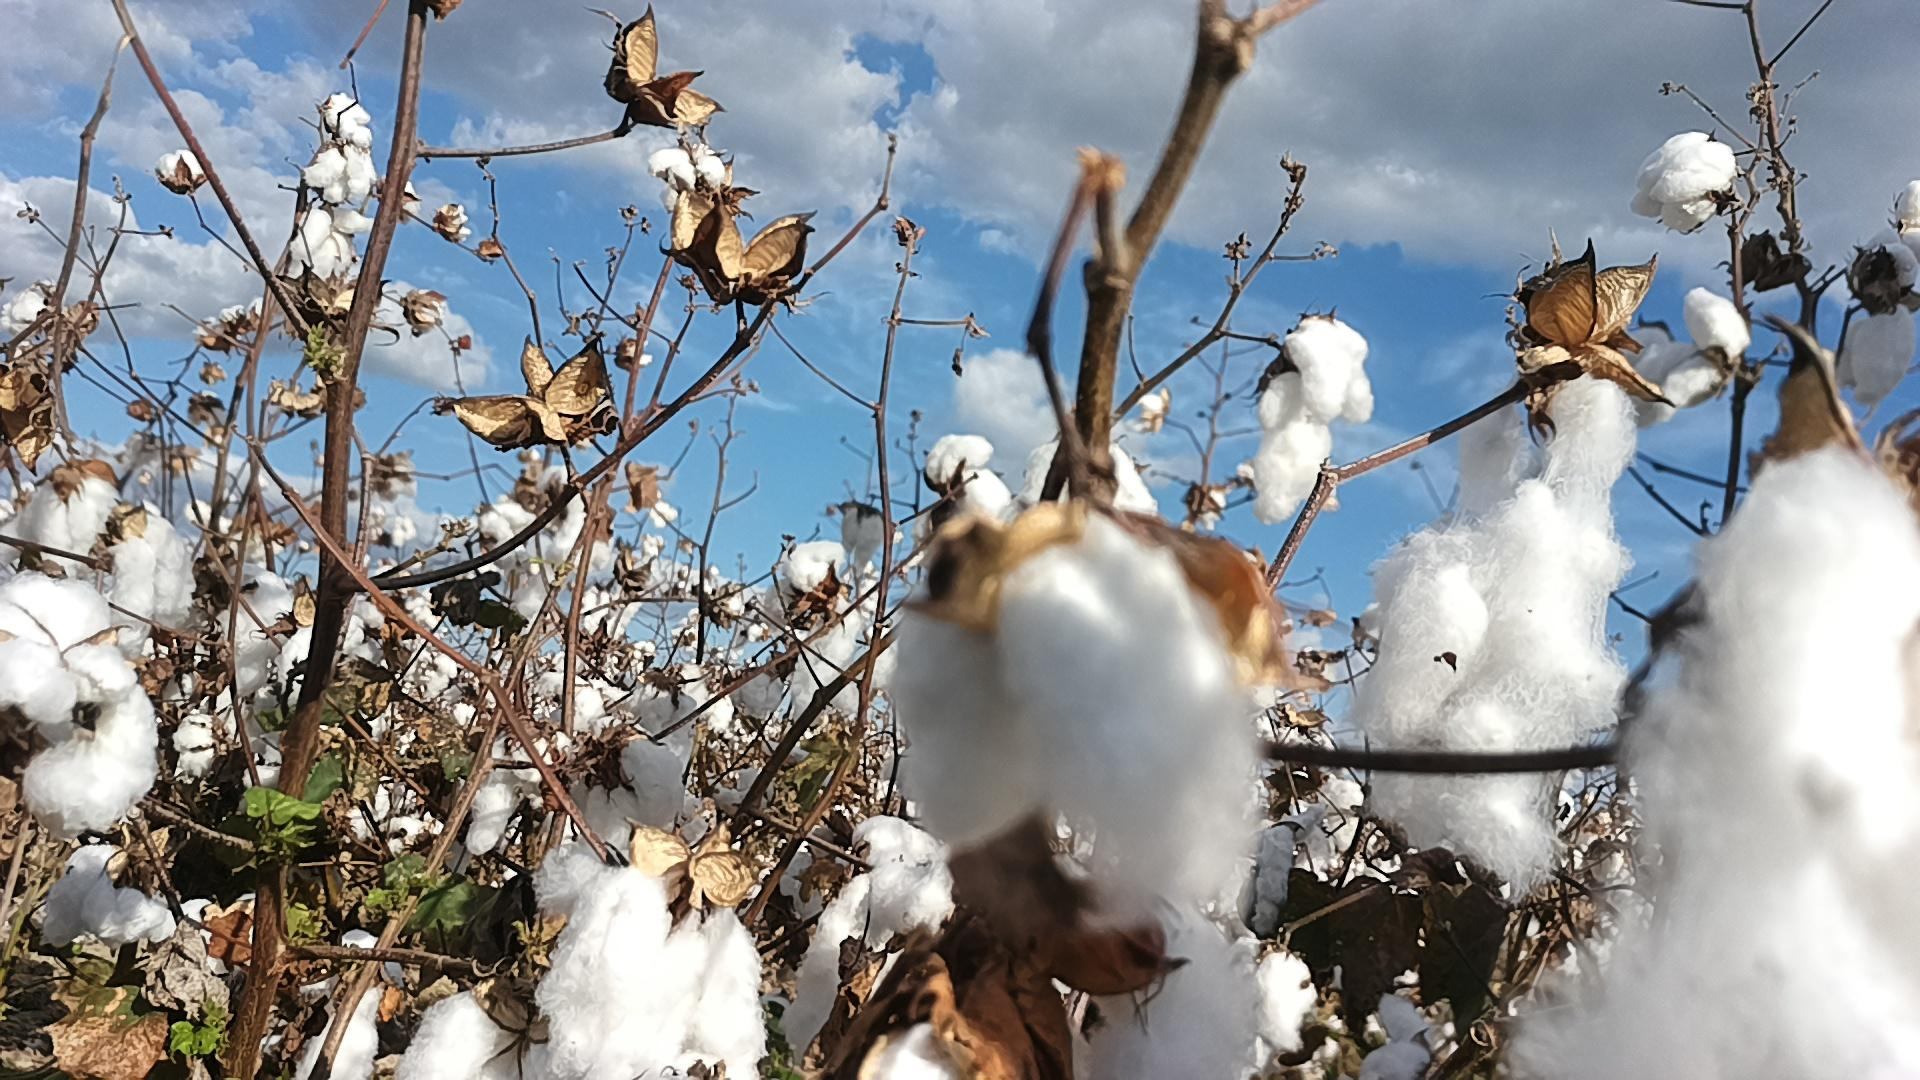cotton_ready: (1510, 446, 1920, 1080), (890, 512, 1266, 915), (1354, 476, 1633, 878), (539, 868, 767, 1080), (779, 818, 948, 1055), (0, 579, 158, 828), (1072, 893, 1270, 1080), (1453, 365, 1635, 533), (1251, 320, 1375, 516), (1838, 179, 1920, 406), (764, 538, 861, 719), (575, 736, 716, 858), (1619, 286, 1750, 417), (641, 670, 766, 804), (294, 931, 404, 1080), (47, 840, 214, 936), (393, 982, 547, 1080), (468, 733, 580, 865), (90, 506, 198, 636), (3, 465, 116, 585), (1228, 931, 1317, 1080), (1629, 129, 1735, 231), (1027, 443, 1166, 521), (216, 571, 287, 696), (276, 618, 360, 711), (1360, 993, 1448, 1080), (931, 433, 1011, 527), (864, 1026, 978, 1080)
